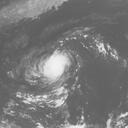cyclone: (40, 51, 73, 85)
